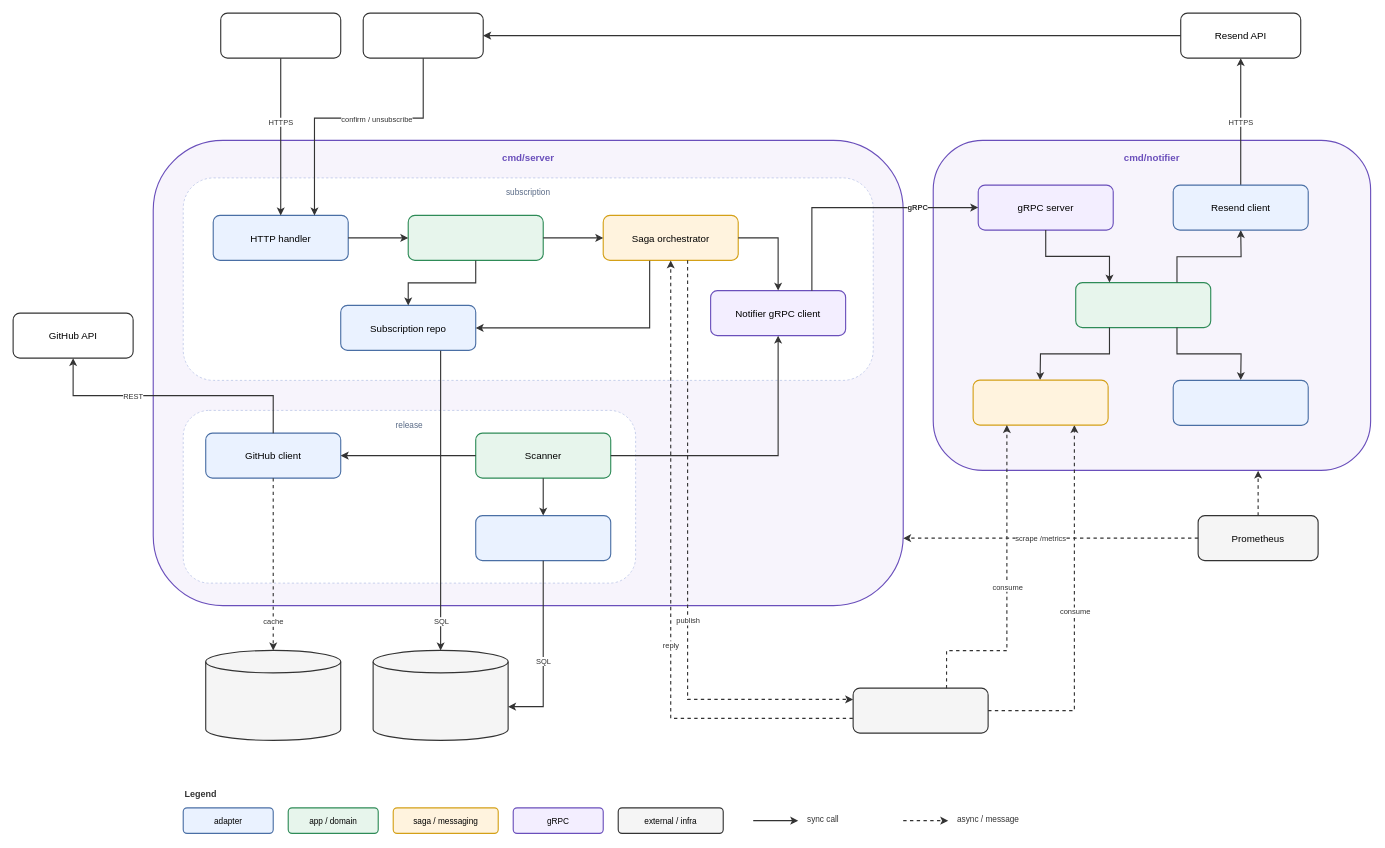
The diagram is 1385 pixels wide and 848 high, and some of its shapes have lost their labels. Here are the shapes that lost their labels. From the top down, the centre of each, then its label:
At pixel 280 35: "Browser".
At pixel 422 35: "User Inbox".
At pixel 475 237: "Subscription app".
At pixel 1143 305: "Notifier domain".
At pixel 1040 402: "AMQP consumer".
At pixel 1240 403: "Email templates".
At pixel 543 538: "Release repo".
At pixel 273 695: "Redis".
At pixel 440 695: "PostgreSQL".
At pixel 920 710: "RabbitMQ".
